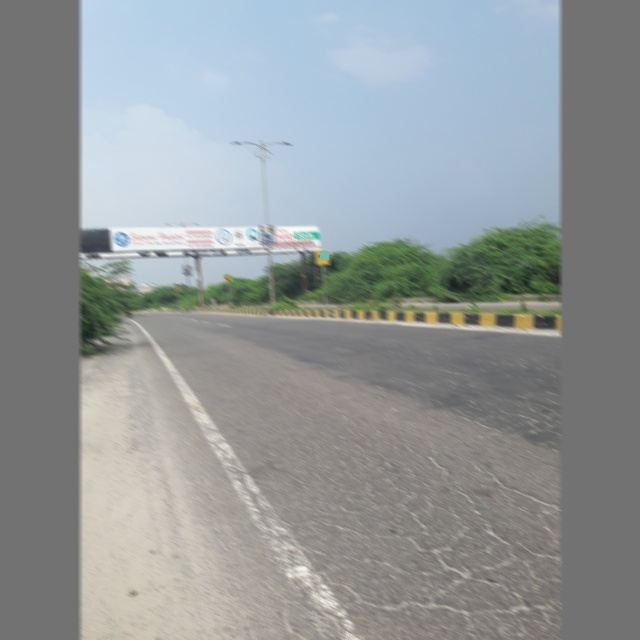Cattle: (313, 247, 333, 266)
